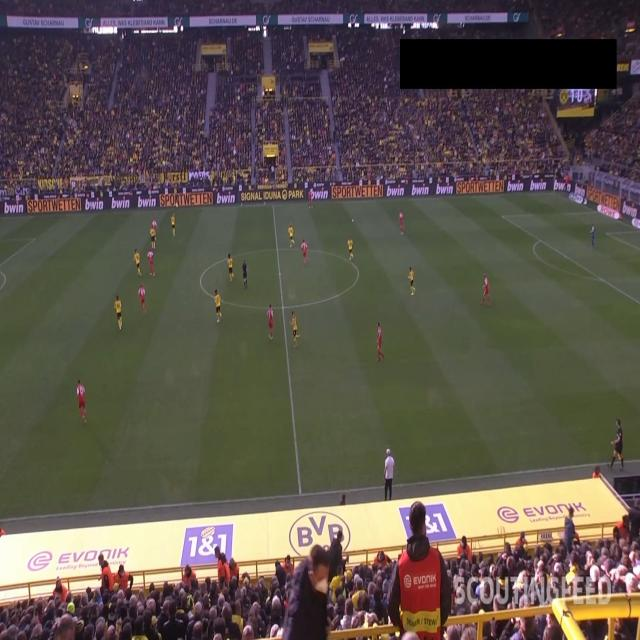ball: (352, 217, 354, 223)
